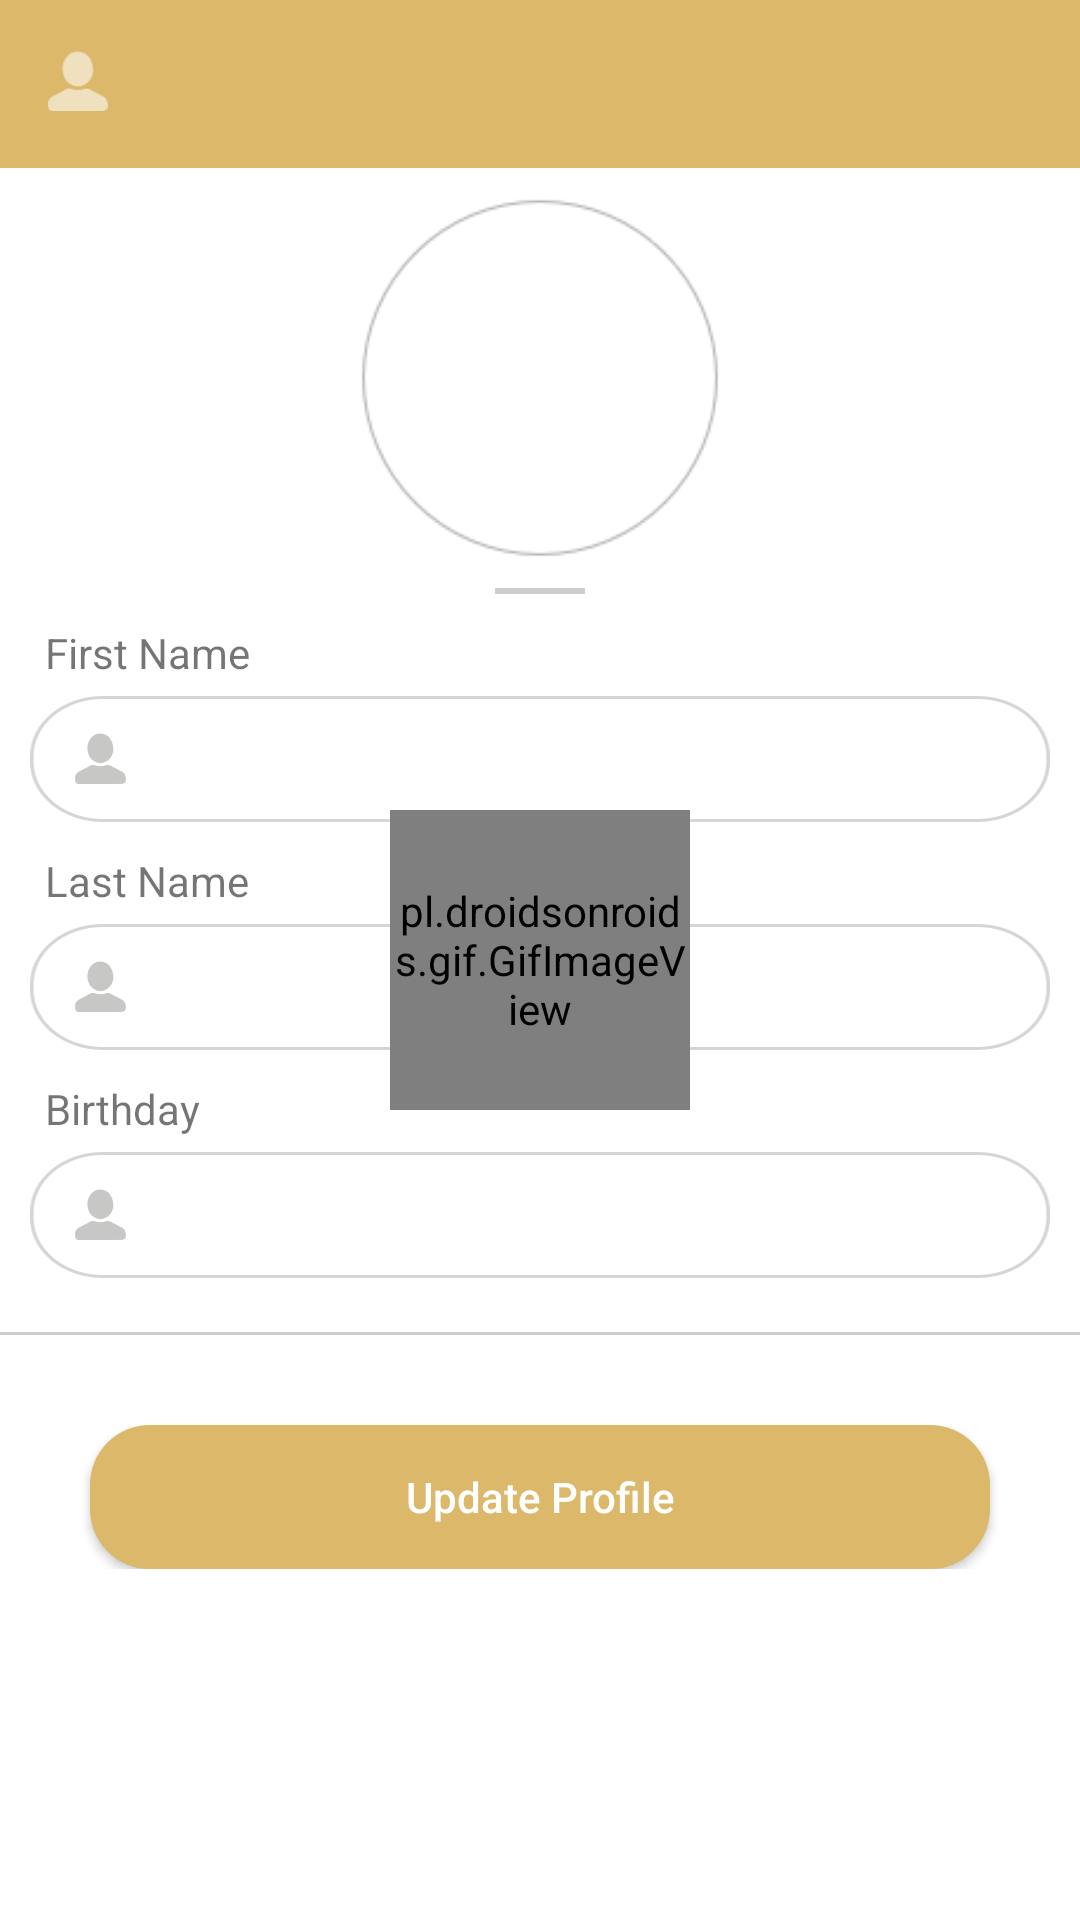

Where icons sit on this 1080px x 1920px app screen, as (x1, y1, x2, y2):
profile: (48, 51, 108, 111)
